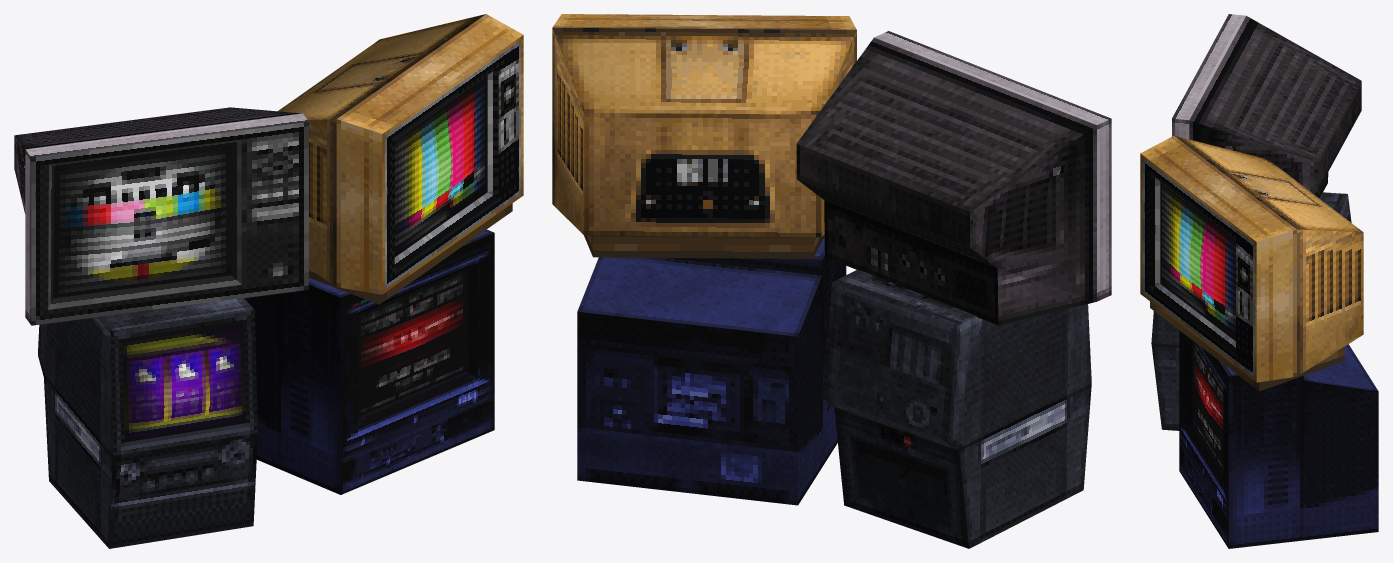
File: psx_low-poly_televisions.glb
3 renders of one model, left to right at view 1: azimuth 30°, elevation 25°; view 2: azimuth 150°, elevation 25°; view 3: azimuth 270°, elevation 25°, orthographic. The views are drawn at different scales.
Visible parts, largest first — view 1: TVYellow, TVBox, TVGrey, TVBlack, TVBlackScreen, TVBoxScreen, TVGreyScreen, TVYellowScreens; view 2: TVBlack, TVYellow, TVGrey, TVBox; view 3: TVYellow, TVGrey, TVBlack, TVYellowScreens, TVBox, TVGreyScreen.
Boxes of the visible parts, x1,y1,x2,y2 form: TVYellow: [278, 14, 523, 304]; TVBox: [38, 298, 257, 548]; TVGrey: [244, 229, 494, 494]; TVBlack: [14, 107, 308, 325]; TVBlackScreen: [53, 144, 231, 298]; TVBoxScreen: [122, 324, 245, 442]; TVGreyScreen: [358, 269, 466, 416]; TVYellowScreens: [394, 75, 487, 256]; TVBlack: [796, 31, 1111, 325]; TVYellow: [552, 14, 856, 258]; TVGrey: [577, 236, 846, 505]; TVBox: [823, 269, 1091, 548]; TVYellow: [1140, 135, 1363, 391]; TVGrey: [1179, 330, 1378, 548]; TVBlack: [1172, 14, 1361, 197]; TVYellowScreens: [1160, 182, 1235, 341]; TVBox: [1151, 192, 1351, 430]; TVGreyScreen: [1193, 341, 1223, 470].
Bounding box in the file's own units: 1.96 × 1.42 × 0.9088.
8 materials, 8 textured.
